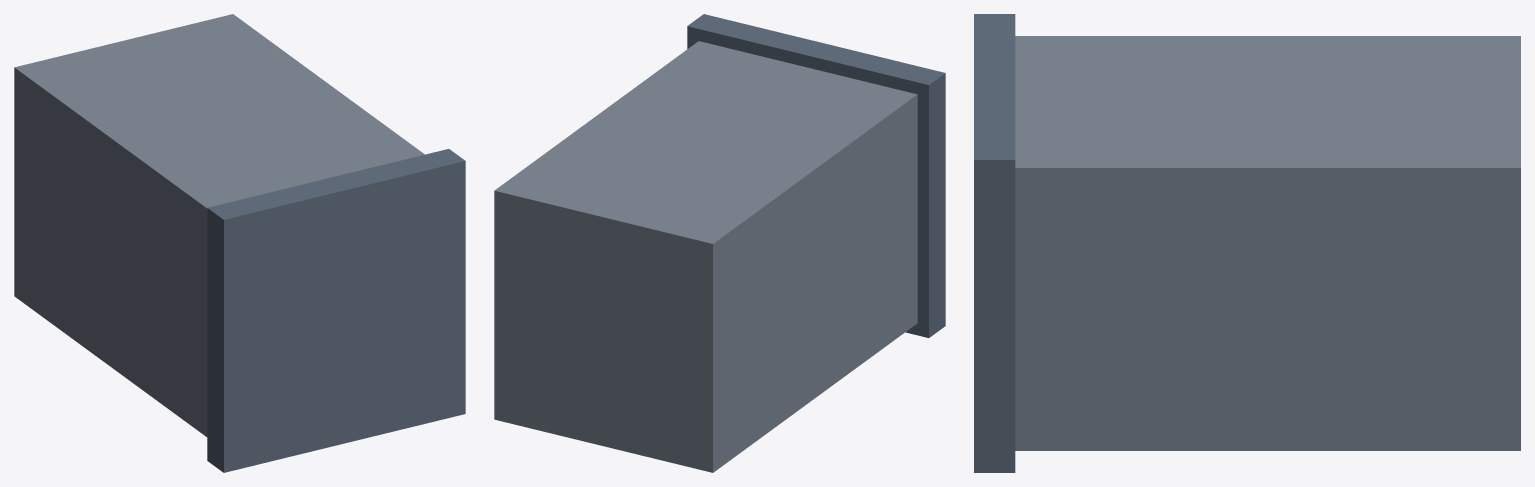
The model's file is trash_bin.glb.
3 renders of one model, left to right at view 1: azimuth 30°, elevation 25°; view 2: azimuth 150°, elevation 25°; view 3: azimuth 270°, elevation 25°, orthographic. The views are drawn at different scales.
Visible parts, largest first — view 1: bin, lid; view 2: bin, lid; view 3: bin, lid.
Boxes of the visible parts, <box> form: bin: <box>14,14,424,436</box>; lid: <box>207,149,465,472</box>; bin: <box>494,41,917,472</box>; lid: <box>687,14,945,337</box>; bin: <box>1015,36,1520,450</box>; lid: <box>974,14,1015,472</box>.
Size of the model in its own units: 0.42 by 0.42 by 0.665.
